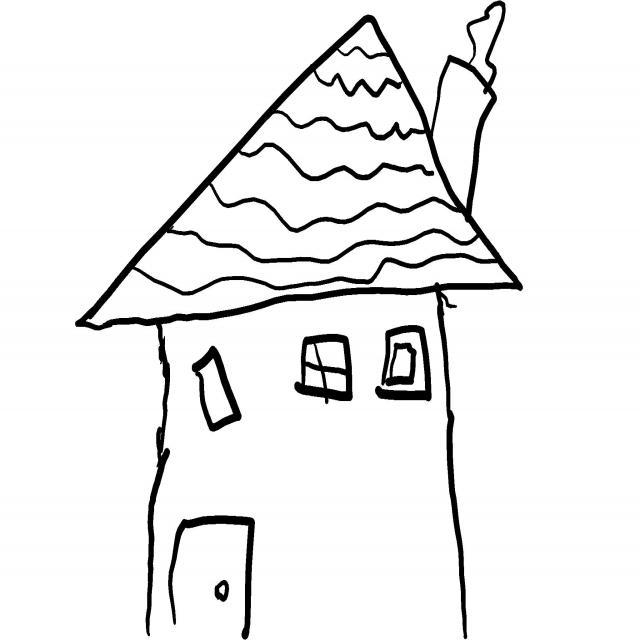chimney: (430, 52, 498, 220)
door: (173, 526, 247, 640)
house: (77, 15, 522, 640)
roof: (75, 11, 529, 329)
wall: (150, 310, 468, 640)
window: (192, 347, 242, 432), (376, 326, 431, 400), (295, 335, 353, 404)
